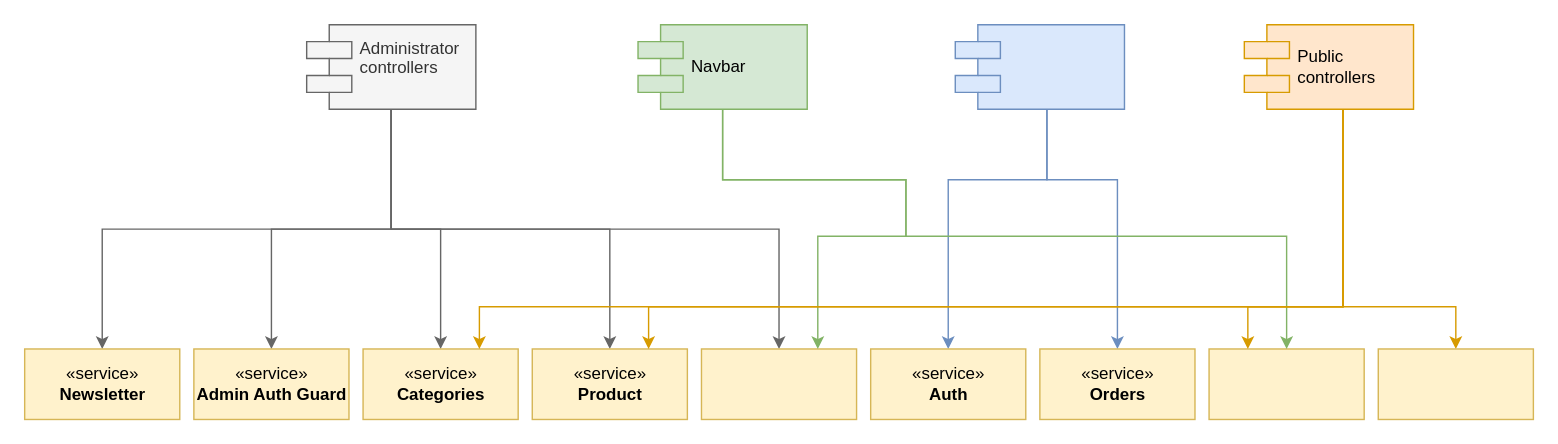
The diagram is 1558 pixels wide and 444 high, and some of its shapes have lost their labels. The shapes that lost their labels are listed below. From the top down, each one's centre as x and y in pixels, then its label:
At point 1039,66: "Customer controllers".
At point 778,383: "«service» Auth Guard".
At point 1286,383: "«service» ShoppingCart".
At point 1455,383: "«service» Filter".
